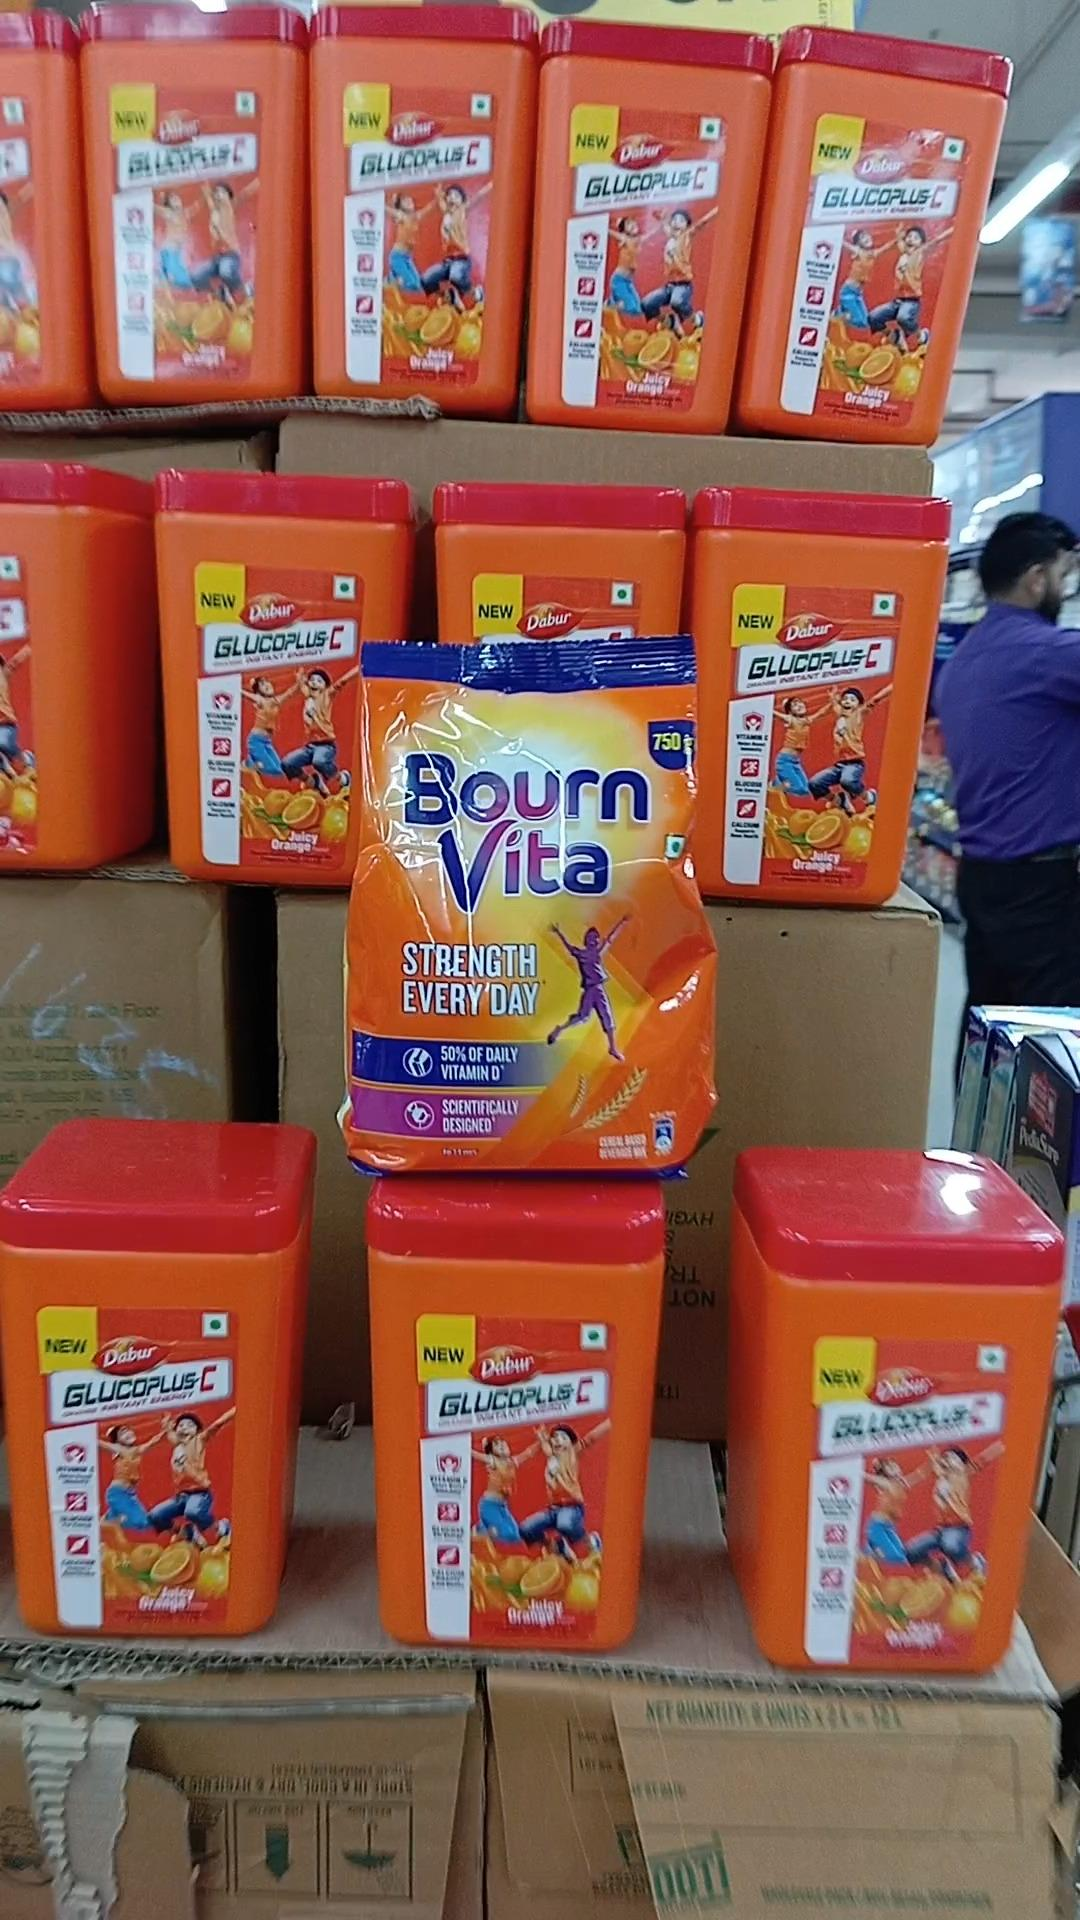BOURN_VITA_750_G_POUCH: (353, 630, 720, 1178)
